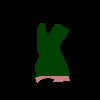shorts: (35, 76, 70, 83)
t-shirt: (35, 22, 70, 78)
